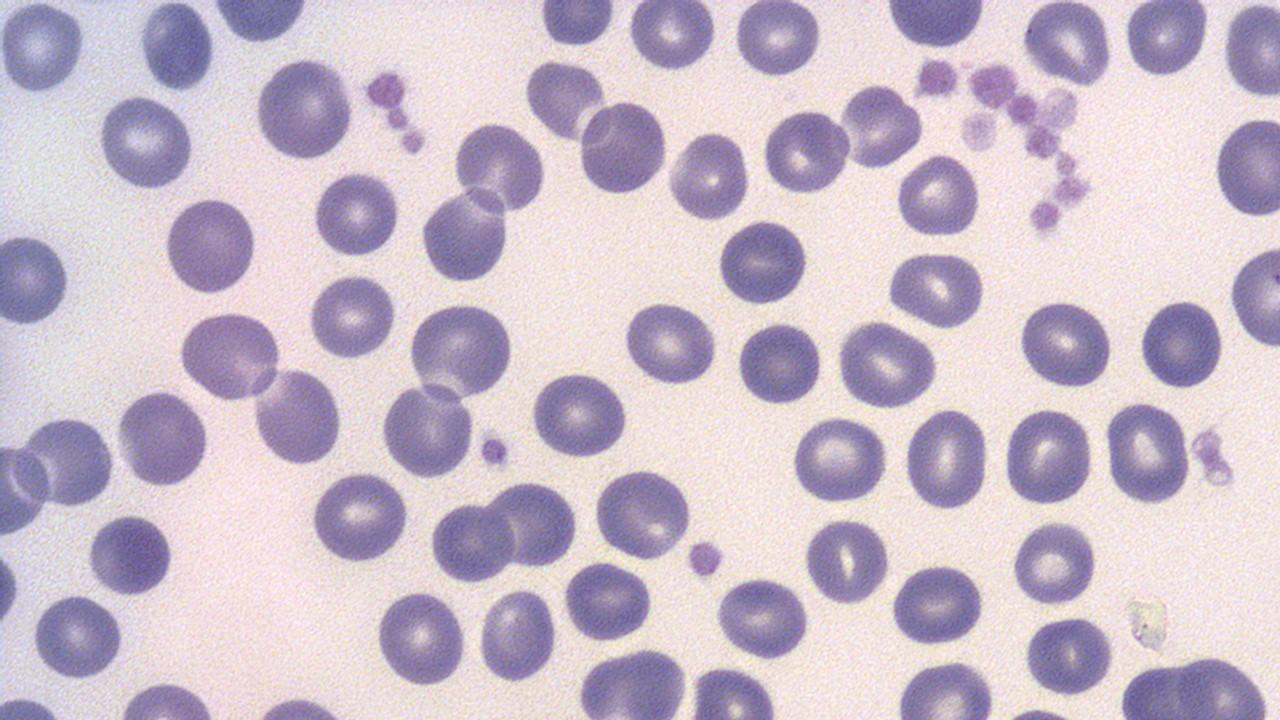Platelets: (362, 64, 411, 113), (913, 55, 962, 103), (958, 109, 998, 155), (686, 537, 727, 581), (475, 426, 512, 474), (1025, 197, 1063, 236), (1051, 176, 1091, 208), (381, 105, 411, 134)
RBC: (252, 53, 356, 163), (176, 300, 285, 404), (408, 298, 518, 401), (116, 386, 216, 492), (160, 194, 261, 297), (592, 464, 694, 564), (95, 94, 199, 192), (247, 364, 346, 466), (416, 184, 514, 286), (307, 467, 410, 564), (1000, 404, 1096, 508), (833, 318, 941, 410), (380, 378, 480, 476), (372, 586, 468, 688), (1014, 296, 1116, 392), (16, 411, 114, 510), (1103, 398, 1191, 508), (902, 404, 990, 514), (450, 117, 547, 216), (527, 366, 630, 459), (576, 97, 670, 198), (788, 414, 890, 507), (620, 297, 721, 387), (886, 560, 988, 649), (304, 269, 400, 362), (30, 590, 127, 682), (486, 477, 578, 572), (714, 218, 812, 307), (1018, 611, 1117, 699), (712, 575, 812, 662), (572, 646, 692, 718), (884, 246, 988, 329), (799, 514, 892, 606), (1136, 296, 1226, 391), (310, 168, 402, 260), (83, 511, 180, 598), (0, 0, 86, 98), (1008, 515, 1100, 606), (475, 584, 560, 682), (762, 105, 852, 197), (664, 127, 752, 221), (561, 558, 657, 644), (733, 320, 825, 408), (521, 56, 610, 146), (1020, 1, 1112, 88), (836, 81, 924, 171), (426, 498, 516, 584), (894, 150, 980, 238), (1212, 110, 1278, 222), (136, 3, 216, 94), (2, 230, 76, 328), (732, 1, 824, 79), (890, 656, 1002, 718), (1122, 1, 1208, 79), (1174, 650, 1272, 718), (627, 0, 717, 74), (1222, 0, 1280, 102), (1227, 239, 1279, 352), (0, 438, 52, 536), (884, 4, 989, 52), (686, 664, 782, 716), (208, 0, 317, 44), (535, 2, 620, 48), (966, 58, 1018, 106), (0, 536, 21, 636)
